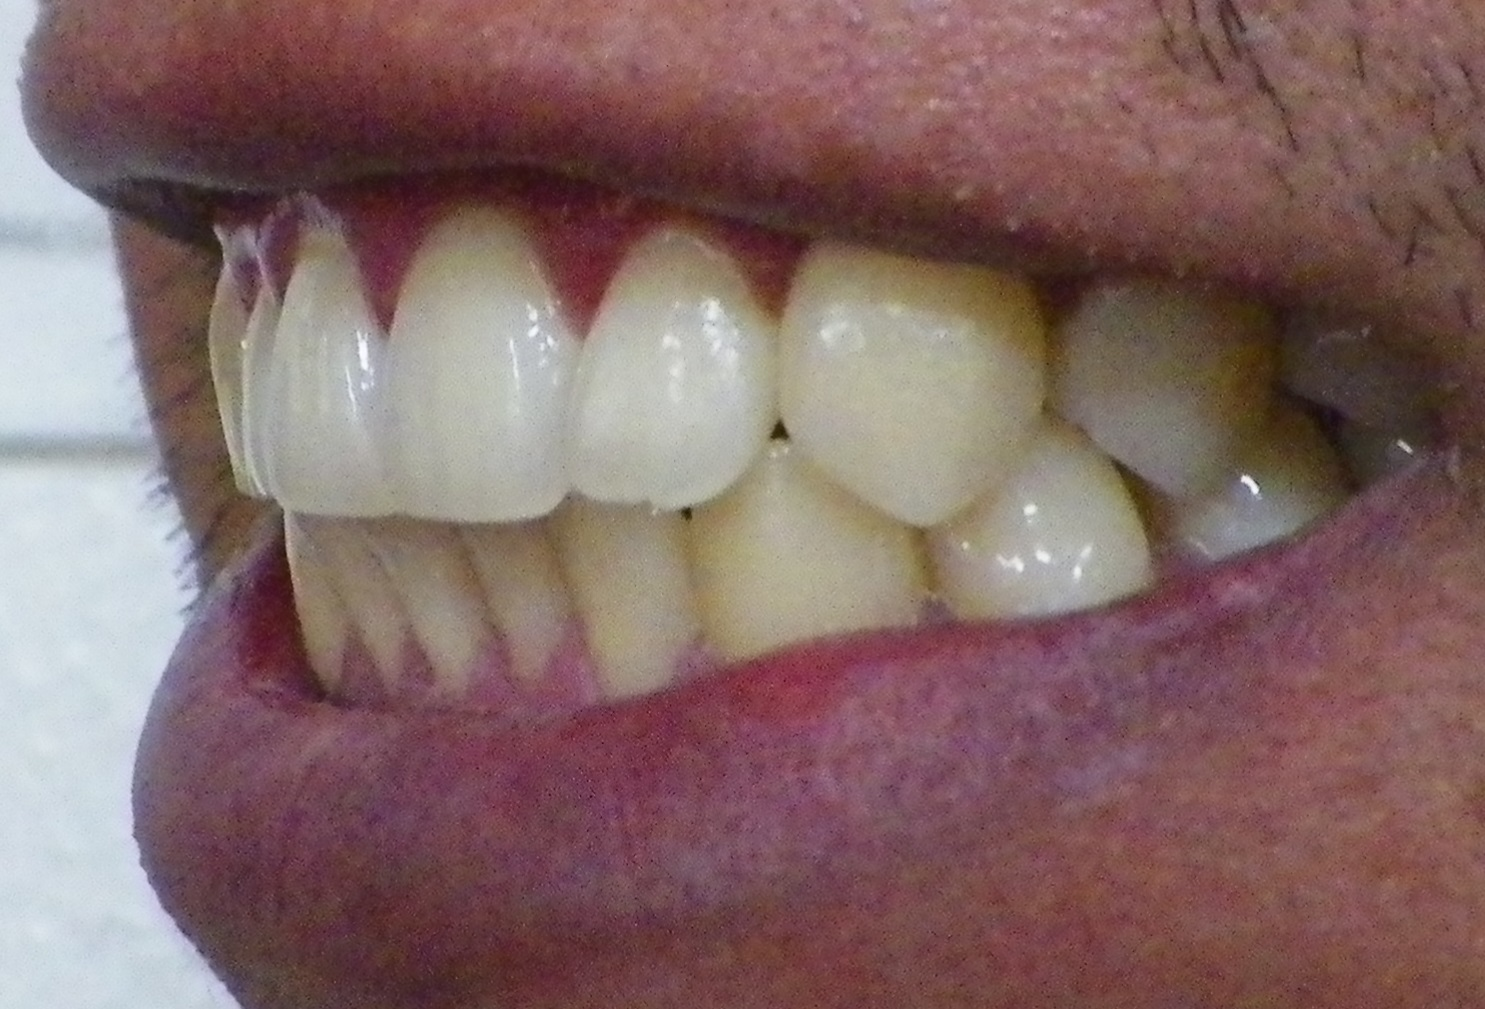boca: (202, 205, 1361, 698)
